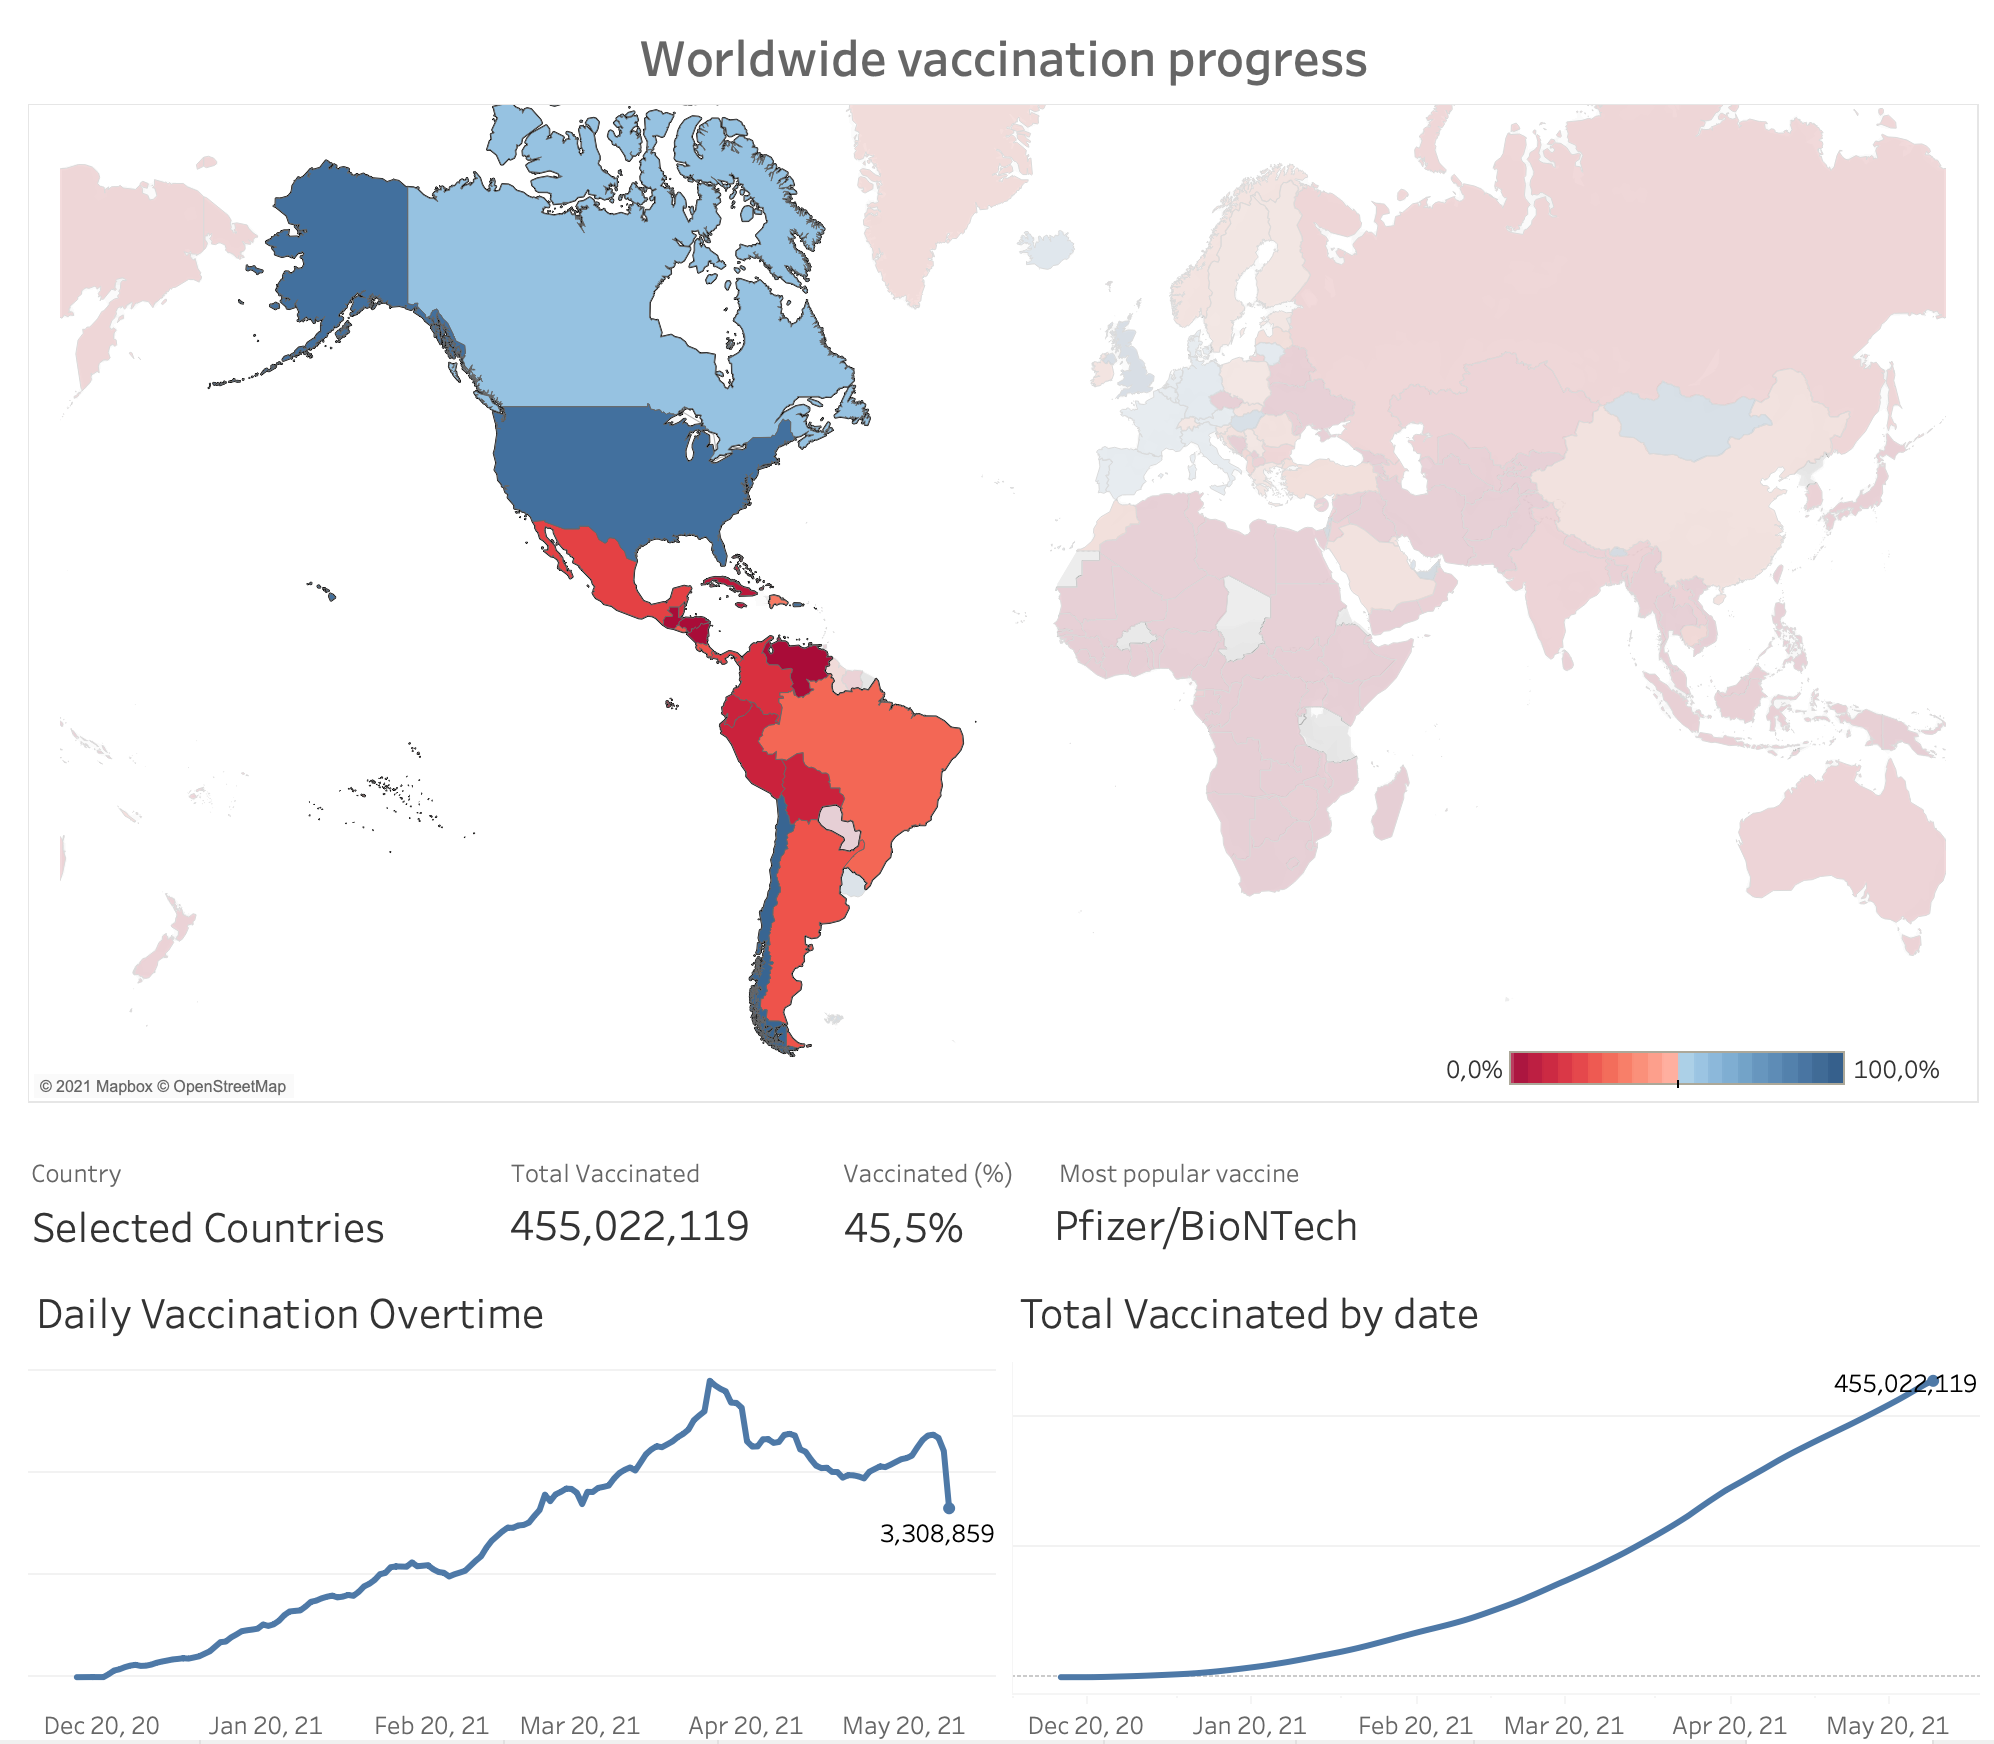

Layout of this report page (visuals, bound fields, positions):
{"tool":"tableau","page":{"name":"Dashboard","canvas":[1000,1200],"ordinal":0},"visuals":[{"type":"worksheet","box":[0,0,1000,1200]},{"type":"worksheet","param":"vert","box":[8,8,984,1184]},{"type":"worksheet","box":[8,8,984,1184]},{"type":"worksheet","box":[8,8,984,40]},{"type":"worksheet","param":"horz","box":[8,48,984,1144]},{"type":"worksheet","box":[8,48,984,1144]},{"type":"worksheet","param":"horz","box":[8,48,984,857.7]},{"type":"worksheet","box":[8,48,984,857.7]},{"type":"worksheet","title":"Vaccinated Percentage","mark":"Multipolygon","box":[8,48,984,508.3]},{"type":"worksheet","title":"Vaccinated Percentage","mark":"Multipolygon","param":"[federated.0qmura41yw61w914r4ky407twyag].[usr:Calculation_4743908936936497156:qk","box":[717,522,256,27]},{"type":"worksheet","box":[8,556.3,984,77.4]},{"type":"worksheet","box":[525,571,126,30]},{"type":"worksheet","box":[11,574,100,25]},{"type":"worksheet","box":[251,574,100,25]},{"type":"worksheet","box":[417,574,100,25]},{"type":"worksheet","title":"Total Vaccinated","mark":"Automatic","box":[249,599,170,39]},{"type":"worksheet","title":"Most Popular Vaccine","mark":"Automatic","box":[521,599,393,36]},{"type":"worksheet","title":"Country Name","mark":"Automatic","box":[10,600,328,41]},{"type":"worksheet","title":"(%) Vaccinated over population","mark":"Automatic","box":[416,600,96,33]},{"type":"worksheet","param":"vert","box":[8,633.7,984,272]},{"type":"worksheet","param":"horz","box":[8,633.7,984,272]},{"type":"worksheet","title":"Daily Vaccination Overtime","mark":"Line","rows":["daily_vaccinations"],"cols":["date"],"box":[8,633.7,492,272]},{"type":"worksheet","title":"Total Vaccinated by date","mark":"Automatic","rows":["daily_vaccinations"],"cols":["date"],"box":[500,633.7,492,272]},{"type":"worksheet","title":"Vaccine Used","mark":"Automatic","rows":["vaccine"],"cols":["total_vaccinations (country_vaccinations_by_manufacturer.csv"],"box":[8,905.7,984,286.3]},{"type":"worksheet","title":"Vaccine Used","mark":"Automatic","rows":["vaccine"],"cols":["total_vaccinations (country_vaccinations_by_manufacturer.csv"],"param":"[federated.0qmura41yw61w914r4ky407twyag].[none:vaccine:nk]","box":[176,925,817,26]}]}

Visuals, with their boxes on the page's 1000x1200 design canvas (x1, y1, x2, y2). These are canvas units, not pixel positions in the 1994x1744 screenshot, which may show the page scaled, cropped or inside an application window:
worksheet: 0/0/1000/1200
worksheet: 8/8/992/1192
worksheet: 8/8/992/1192
worksheet: 8/8/992/48
worksheet: 8/48/992/1192
worksheet: 8/48/992/1192
worksheet: 8/48/992/906
worksheet: 8/48/992/906
"Vaccinated Percentage" worksheet (Multipolygon marks): 8/48/992/556
"Vaccinated Percentage" worksheet (Multipolygon marks): 717/522/973/549
worksheet: 8/556/992/634
worksheet: 525/571/651/601
worksheet: 11/574/111/599
worksheet: 251/574/351/599
worksheet: 417/574/517/599
"Total Vaccinated" worksheet: 249/599/419/638
"Most Popular Vaccine" worksheet: 521/599/914/635
"Country Name" worksheet: 10/600/338/641
"(%) Vaccinated over population" worksheet: 416/600/512/633
worksheet: 8/634/992/906
worksheet: 8/634/992/906
"Daily Vaccination Overtime" worksheet (Line marks): 8/634/500/906
"Total Vaccinated by date" worksheet: 500/634/992/906
"Vaccine Used" worksheet: 8/906/992/1192
"Vaccine Used" worksheet: 176/925/993/951
